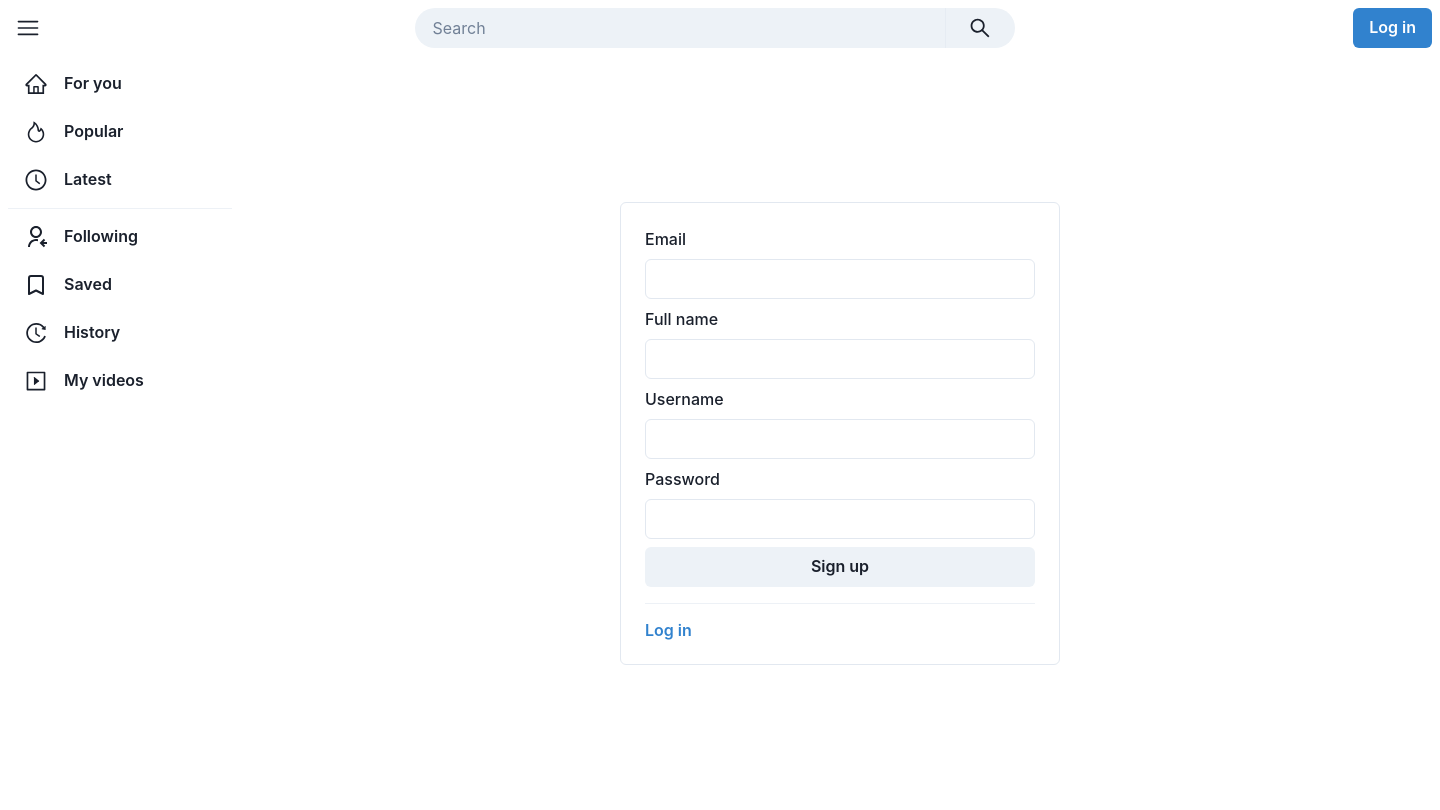
SignupPage › signup form › email input › should show error message on submit if value is not a valid email
The image size is (1440, 810).
In the field labelled "Email": (840, 278) [645,258,1035,298], type "atkins@"
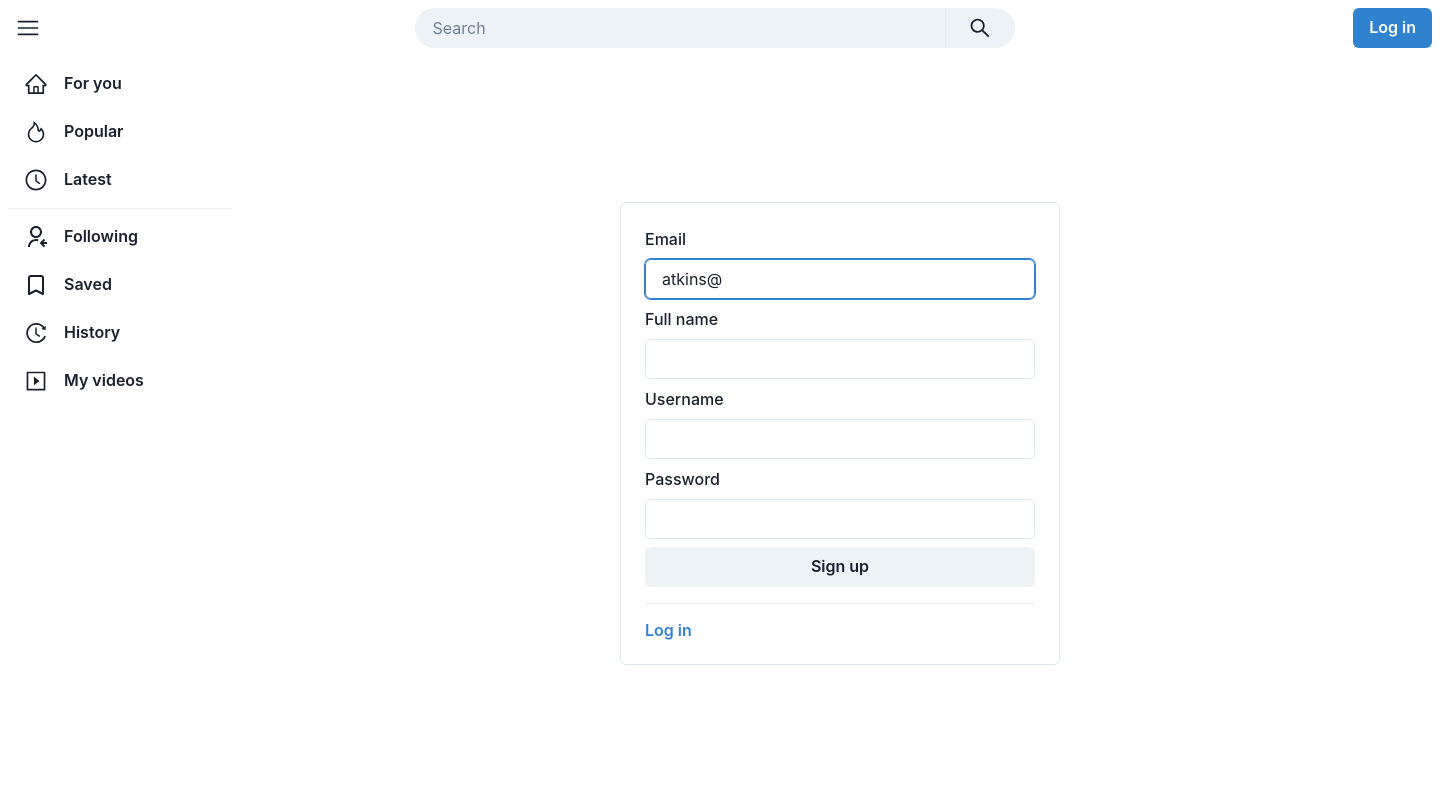
Click the button "Sign up": (840, 566) [645,546,1035,586]
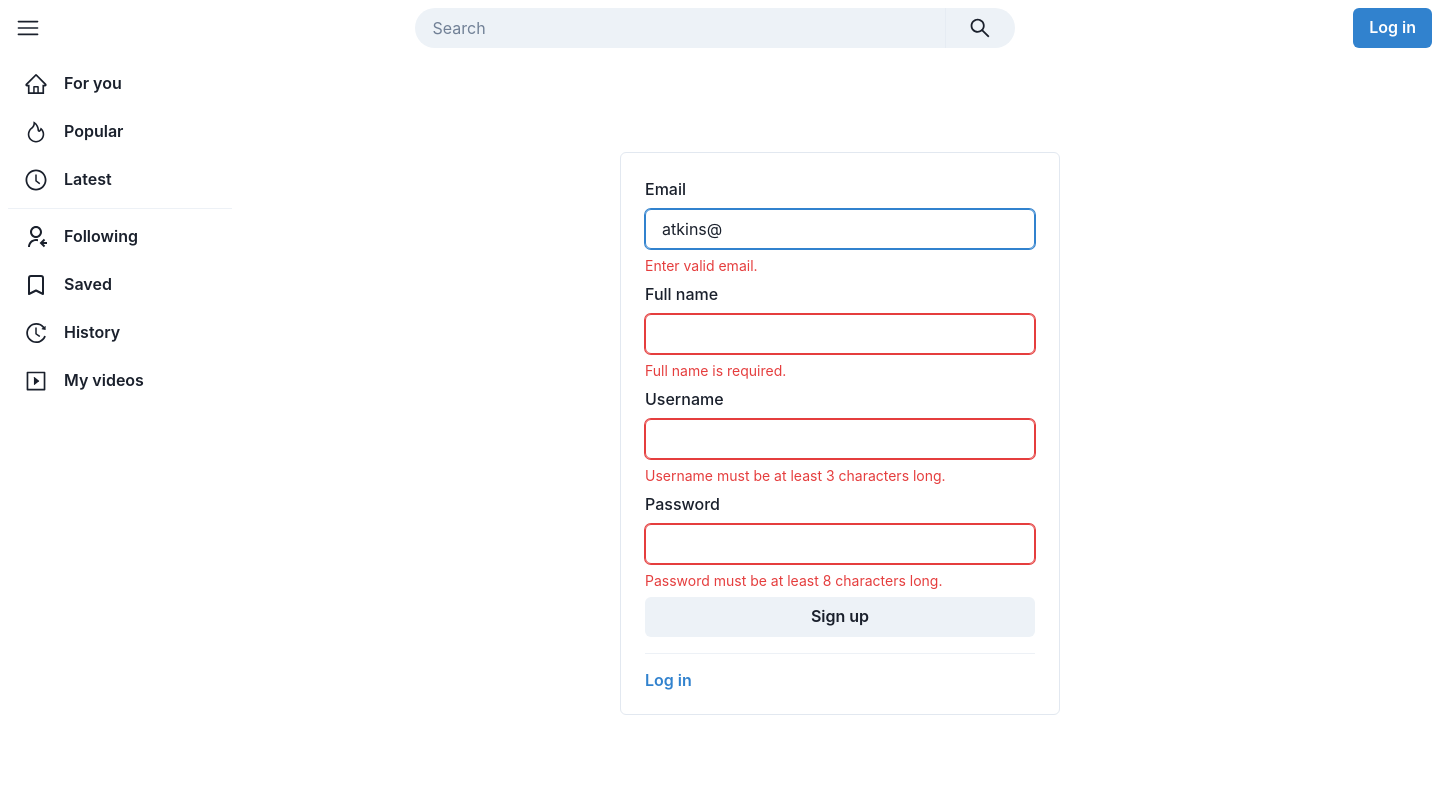
Expected: the message "Enter valid email." is shown, [645,256,758,274]
